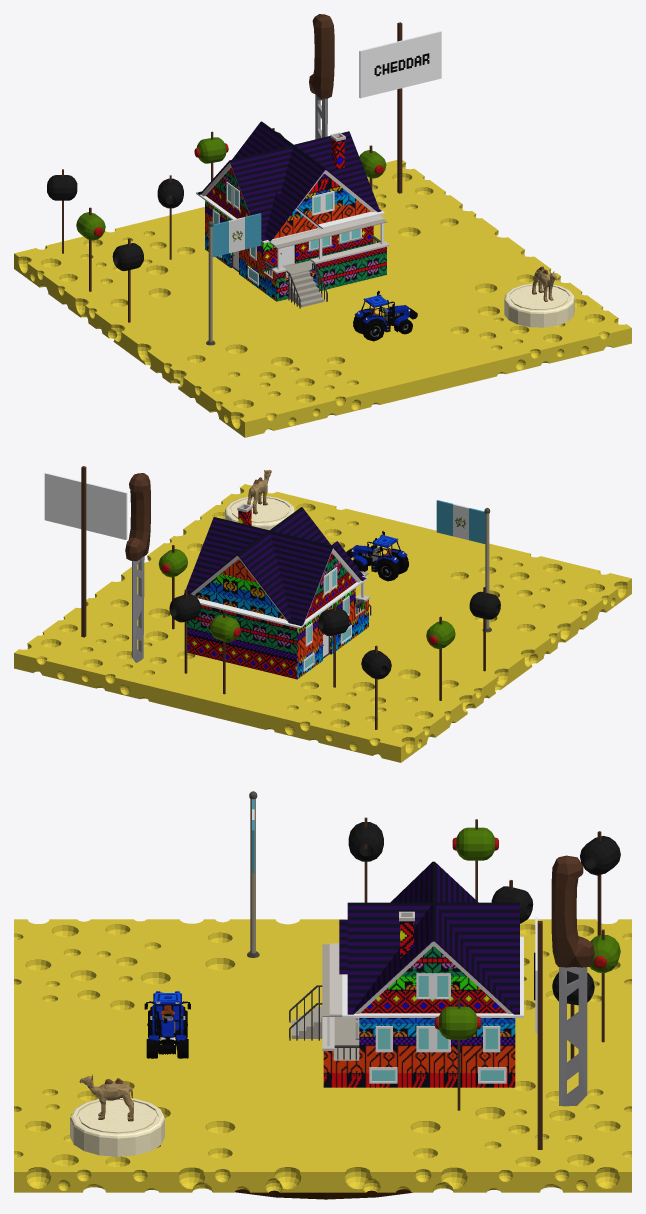
The picture shows the model from 3 angles, top to bottom: view 1: azimuth 30°, elevation 25°; view 2: azimuth 150°, elevation 25°; view 3: azimuth 270°, elevation 25°; orthographic projection. The views are drawn at different scales.
Visible parts, largest first — view 1: Cube.022, Cube.966, Cube.023, Cylinder.016, Cube.024, OBJRANDOM_GUATEMALAN_FLAG, VEHICLES_TRACTOR, Sphere.017, Sphere.016, Sphere.020, Sphere.018, Sphere.022 (+1 smaller); view 2: Cube.022, Cube.966, Cube.023, Cube.024, OBJRANDOM_GUATEMALAN_FLAG, VEHICLES_TRACTOR, Cylinder.016, Sphere.021, Sphere.020, Sphere.017, Sphere.016, Sphere.022 (+3 smaller); view 3: Cube.022, Cube.966, Cube.024, Cylinder.016, VEHICLES_TRACTOR, Cube.023, Sphere.019, Sphere.016, Sphere.018, Sphere.017, Sphere.022, ANIMAL_CAMELLO (+4 smaller).
Part boxes in pixels (<box>): Cube.022: <box>14,160,631,437</box>; Cube.966: <box>196,121,389,308</box>; Cube.023: <box>359,22,441,193</box>; Cylinder.016: <box>504,283,574,327</box>; Cube.024: <box>309,14,334,139</box>; OBJRANDOM_GUATEMALAN_FLAG: <box>206,213,261,345</box>; VEHICLES_TRACTOR: <box>353,290,417,341</box>; Sphere.017: <box>112,238,143,322</box>; Sphere.016: <box>47,169,77,253</box>; Sphere.020: <box>157,175,183,259</box>; Sphere.018: <box>76,207,105,291</box>; Sphere.022: <box>194,131,228,180</box>; Cube.022: <box>14,484,631,762</box>; Cube.966: <box>182,503,371,679</box>; Cube.023: <box>44,466,127,637</box>; Cube.024: <box>125,473,150,662</box>; OBJRANDOM_GUATEMALAN_FLAG: <box>436,500,491,632</box>; VEHICLES_TRACTOR: <box>346,531,408,581</box>; Cylinder.016: <box>225,496,294,530</box>; Sphere.021: <box>169,589,200,673</box>; Sphere.020: <box>318,603,349,687</box>; Sphere.017: <box>469,587,500,671</box>; Sphere.016: <box>361,645,391,729</box>; Sphere.022: <box>209,610,240,694</box>; Cube.022: <box>14,919,631,1192</box>; Cube.966: <box>289,861,523,1087</box>; Cube.024: <box>551,855,594,1106</box>; Cylinder.016: <box>70,1098,164,1156</box>; VEHICLES_TRACTOR: <box>144,991,190,1058</box>; Cube.023: <box>534,917,542,1149</box>; Sphere.019: <box>435,998,481,1110</box>; Sphere.016: <box>580,831,620,935</box>; Sphere.018: <box>452,819,498,901</box>; Sphere.017: <box>348,817,383,902</box>; Sphere.022: <box>590,929,620,1042</box>; ANIMAL_CAMELLO: <box>79,1074,133,1121</box>.
Bounding box in the file's own units: 3917 × 2073 × 4000.
45 materials, 7 textured.
